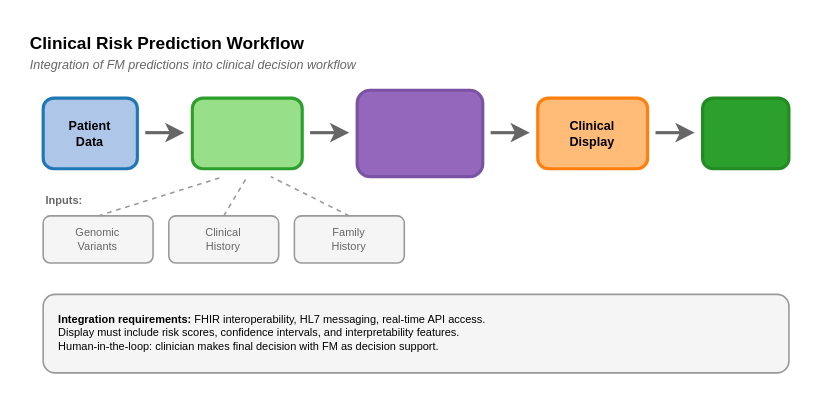
Image size: 816x400. Some labels were removed from this diagram. The shapes that lost their labels are listed below. From the top down, each one's centre as x and y in pixels, then its label:
the point at 246,133: EHR Integration
the point at 419,132: Foundation Model Prediction
the point at 745,133: Clinical Decision
